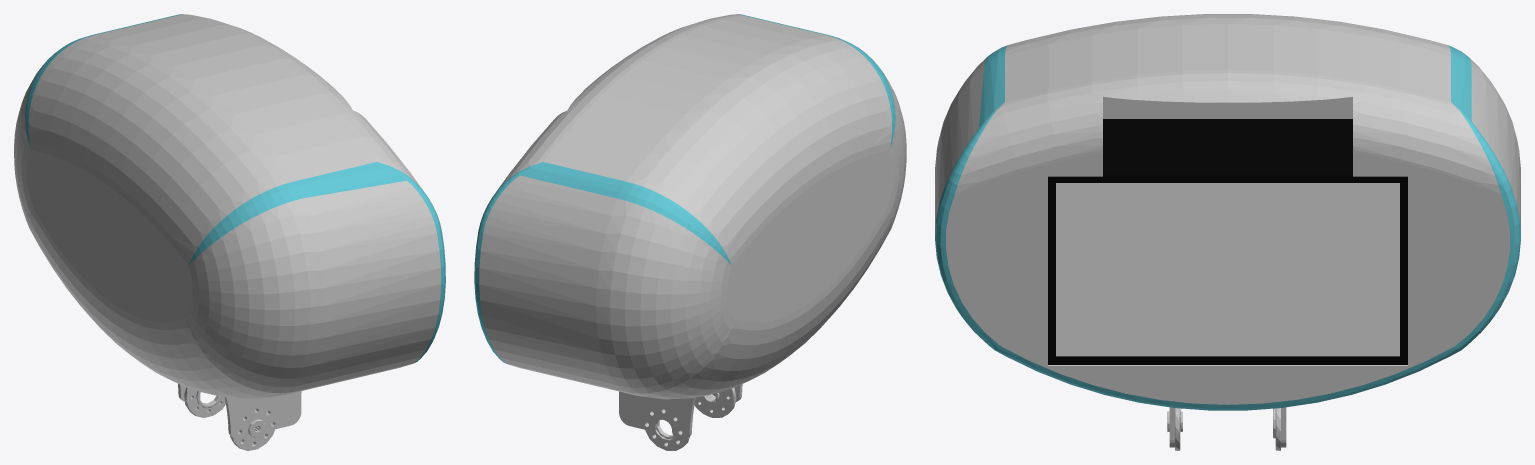
Rendered from head.dae.
The picture shows the model from 3 angles, left to right: view 1: azimuth 30°, elevation 25°; view 2: azimuth 150°, elevation 25°; view 3: azimuth 270°, elevation 25°; orthographic projection. The views are drawn at different scales.
Parts seen in each view (by area): view 1: head; view 2: head; view 3: head.
Boxes of the visible parts, x1=… form: head: x1=14, y1=14, x2=445, y2=450; head: x1=474, y1=14, x2=906, y2=450; head: x1=935, y1=14, x2=1520, y2=450.
Bounding box in the file's own units: 0.1507 × 0.3272 × 0.2492.
